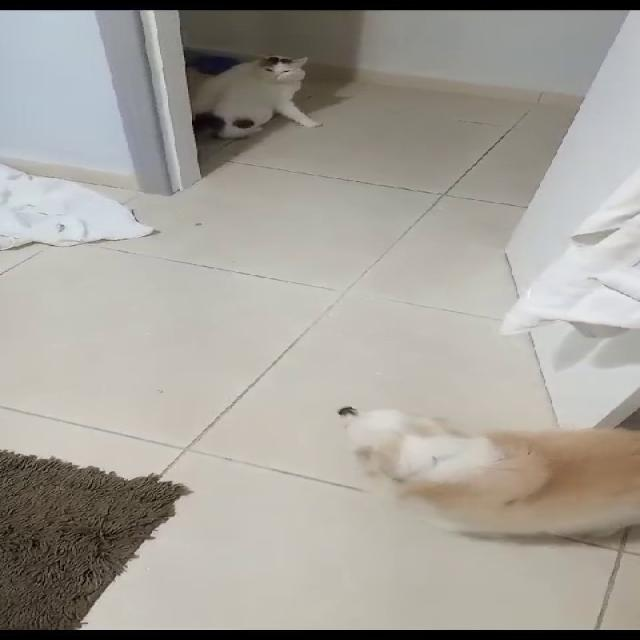Simba: (194, 43, 356, 154)
Theo: (308, 389, 638, 555)
